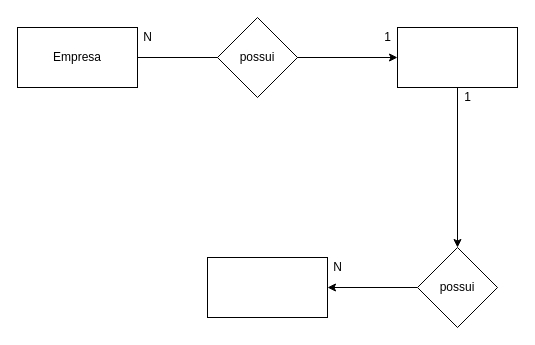
This 535x345 diagram has some shape labels left out. Each missing label, with the box of its shape:
cliente: (396, 26, 518, 88)
Veículos: (206, 256, 328, 318)
